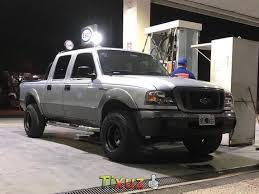car: (19, 48, 235, 162)
